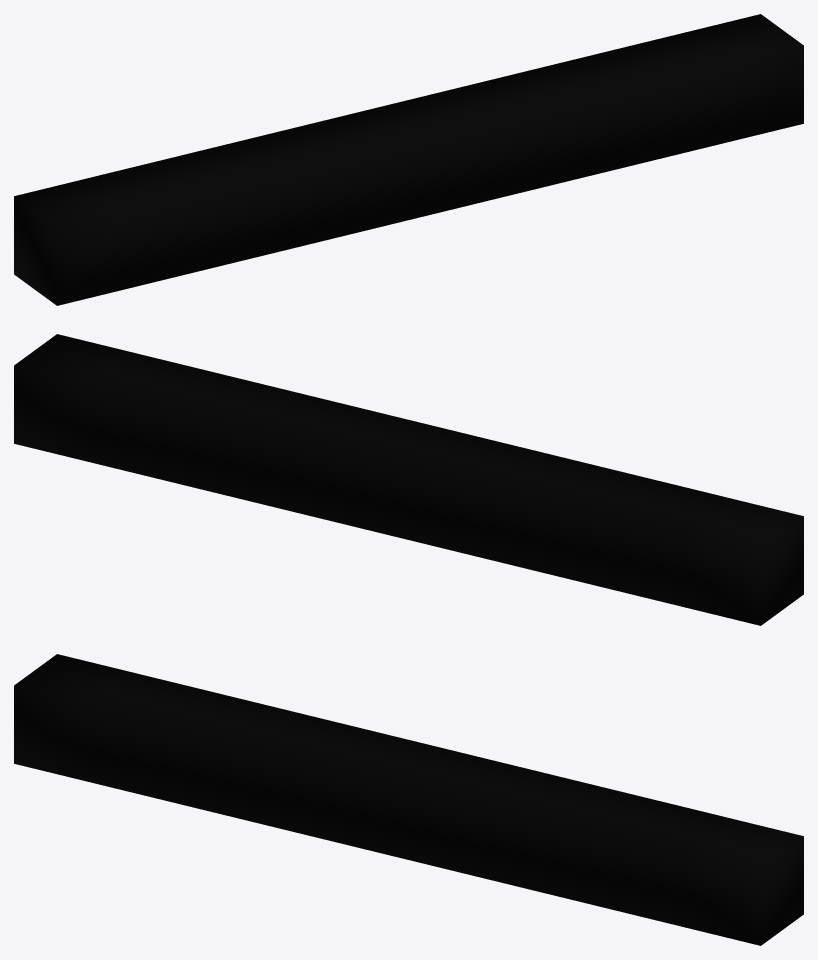
The model's file is healthbar.fbx.
The picture shows the model from 3 angles, top to bottom: view 1: azimuth 30°, elevation 25°; view 2: azimuth 150°, elevation 25°; view 3: azimuth 330°, elevation 25°; orthographic projection.
Visible parts, largest first — view 1: Cube; view 2: Cube; view 3: Cube.
Part boxes in pixels (box(x1,y1,x2,y2)): Cube: box(14, 14, 803, 305); Cube: box(14, 334, 803, 625); Cube: box(14, 654, 803, 945).
Size of the model in its own units: 1 by 0.1 by 0.1.
Materials: 1 (1 with a texture image).
